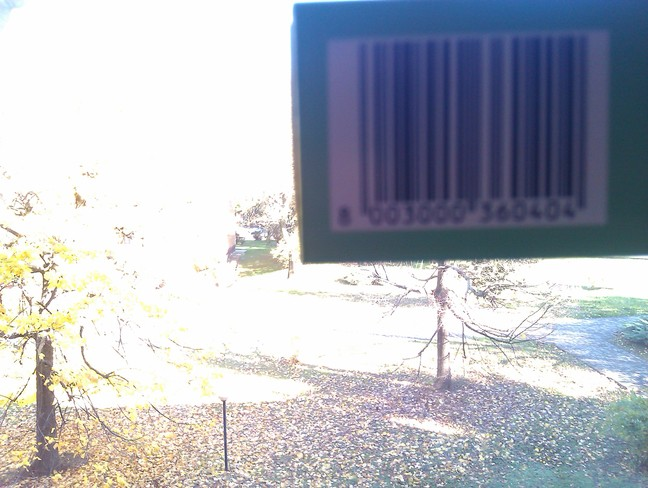barcode: (312, 26, 603, 230)
